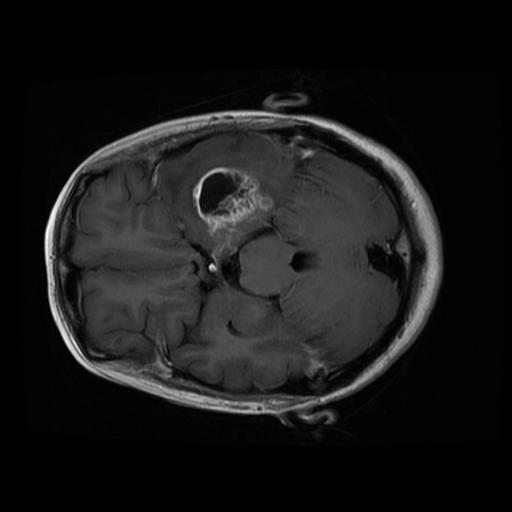glioma: (190, 165, 276, 261)
